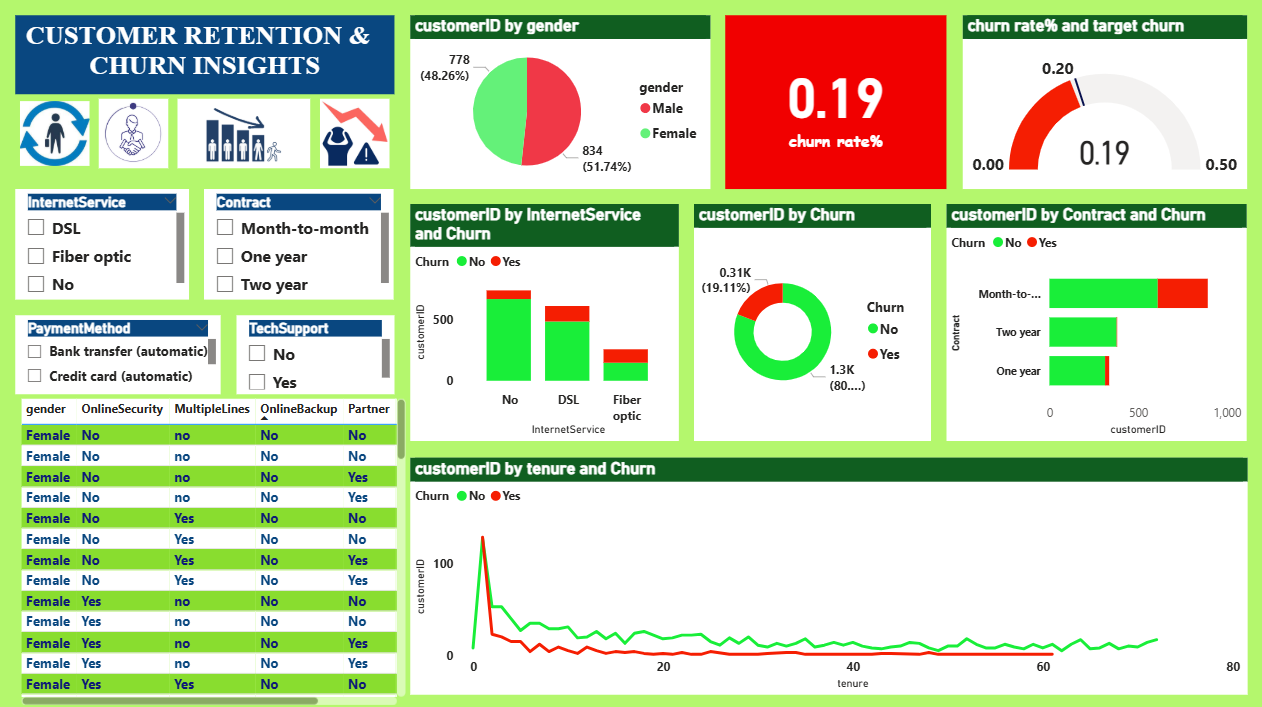

What the dashboard file says about the page in this screenshot:
{"tool":"powerbi","page":{"name":"Page 1","canvas":[1280,720],"ordinal":0},"visuals":[{"type":"card","fields":{"Values":["Telco_Customer_Churn_Dataset  (2) (2).churn rate%"]},"box":[736,16,224,176],"z":0},{"type":"donutChart","fields":{"Category":["Telco_Customer_Churn_Dataset  (2) (2).Churn"],"Y":["CountNonNull(Telco_Customer_Churn_Dataset  (2) (2).customerID)"]},"box":[704,208,240,240],"z":1000},{"type":"slicer","fields":{"Values":["Telco_Customer_Churn_Dataset  (2) (2).Contract"]},"box":[208,192,192,112],"z":2000},{"type":"slicer","fields":{"Values":["Telco_Customer_Churn_Dataset  (2) (2).InternetService"]},"box":[16,192,176,112],"z":3000},{"type":"pieChart","fields":{"Category":["Telco_Customer_Churn_Dataset  (2) (2).gender"],"Y":["CountNonNull(Telco_Customer_Churn_Dataset  (2) (2).customerID)"]},"box":[416,16,304,176],"z":4000},{"type":"barChart","fields":{"Category":["Telco_Customer_Churn_Dataset  (2) (2).Contract"],"Series":["Telco_Customer_Churn_Dataset  (2) (2).Churn"],"Y":["CountNonNull(Telco_Customer_Churn_Dataset  (2) (2).customerID)"]},"box":[960,208,304,240],"z":5000},{"type":"columnChart","fields":{"Category":["Telco_Customer_Churn_Dataset  (2) (2).InternetService"],"Series":["Telco_Customer_Churn_Dataset  (2) (2).Churn"],"Y":["CountNonNull(Telco_Customer_Churn_Dataset  (2) (2).customerID)"]},"box":[416,208,272,240],"z":6000},{"type":"lineChart","fields":{"Category":["Telco_Customer_Churn_Dataset  (2) (2).tenure"],"Y":["CountNonNull(Telco_Customer_Churn_Dataset  (2) (2).customerID)"],"Series":["Telco_Customer_Churn_Dataset  (2) (2).Churn"]},"box":[416,464,848,240],"z":7000},{"type":"gauge","fields":{"Y":["Telco_Customer_Churn_Dataset  (2) (2).churn rate%"],"TargetValue":["Telco_Customer_Churn_Dataset  (2) (2).target churn"]},"box":[976,16,288,176],"z":8000},{"type":"tableEx","fields":{"Values":["Telco_Customer_Churn_Dataset  (2) (2).gender","Telco_Customer_Churn_Dataset  (2) (2).OnlineSecurity","Telco_Customer_Churn_Dataset  (2) (2).MultipleLines","Telco_Customer_Churn_Dataset  (2) (2).OnlineBackup","Telco_Customer_Churn_Dataset  (2) (2).Partner","Telco_Customer_Churn_Dataset  (2) (2).PaperlessBilling"]},"box":[16,400,400,320],"z":9000},{"type":"textbox","box":[16,16,384,80],"z":10000},{"type":"image","box":[176,96,144,80],"z":11000},{"type":"image","box":[96,96,80,80],"z":12000},{"type":"image","box":[320,96,80,80],"z":13000},{"type":"slicer","fields":{"Values":["Telco_Customer_Churn_Dataset  (2) (2).PaymentMethod"]},"box":[16,320,208,80],"z":14000},{"type":"slicer","fields":{"Values":["Telco_Customer_Churn_Dataset  (2) (2).TechSupport"]},"box":[240,320,160,80],"z":15000},{"type":"image","box":[16,96,80,80],"z":16000}]}

Visuals, with their boxes in screenshot pixels (x1, y1, x2, y2), scaled from the page's 1280x720 canvas onto the 1262x707 screenshot:
card - Telco_Customer_Churn_Dataset  (2) (2).churn rate%: box=[726, 16, 946, 189]
donutChart - Telco_Customer_Churn_Dataset  (2) (2).Churn x CountNonNull(Telco_Customer_Churn_Dataset  (2) (2).customerID): box=[694, 204, 931, 440]
slicer - Telco_Customer_Churn_Dataset  (2) (2).Contract: box=[205, 189, 394, 299]
slicer - Telco_Customer_Churn_Dataset  (2) (2).InternetService: box=[16, 189, 189, 299]
pieChart - Telco_Customer_Churn_Dataset  (2) (2).gender x CountNonNull(Telco_Customer_Churn_Dataset  (2) (2).customerID): box=[410, 16, 710, 189]
barChart - Telco_Customer_Churn_Dataset  (2) (2).Contract x Telco_Customer_Churn_Dataset  (2) (2).Churn: box=[946, 204, 1246, 440]
columnChart - Telco_Customer_Churn_Dataset  (2) (2).InternetService x Telco_Customer_Churn_Dataset  (2) (2).Churn: box=[410, 204, 678, 440]
lineChart - Telco_Customer_Churn_Dataset  (2) (2).tenure x CountNonNull(Telco_Customer_Churn_Dataset  (2) (2).customerID): box=[410, 456, 1246, 691]
gauge - Telco_Customer_Churn_Dataset  (2) (2).churn rate% x Telco_Customer_Churn_Dataset  (2) (2).target churn: box=[962, 16, 1246, 189]
tableEx - Telco_Customer_Churn_Dataset  (2) (2).gender x Telco_Customer_Churn_Dataset  (2) (2).OnlineSecurity: box=[16, 393, 410, 706]
textbox: box=[16, 16, 394, 94]
image: box=[174, 94, 316, 173]
image: box=[95, 94, 174, 173]
image: box=[316, 94, 394, 173]
slicer - Telco_Customer_Churn_Dataset  (2) (2).PaymentMethod: box=[16, 314, 221, 393]
slicer - Telco_Customer_Churn_Dataset  (2) (2).TechSupport: box=[237, 314, 394, 393]
image: box=[16, 94, 95, 173]
